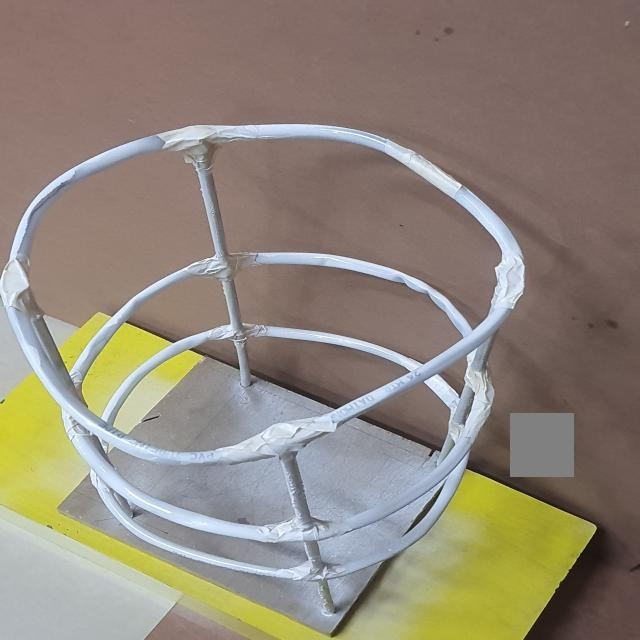silo: (0, 116, 520, 634)
